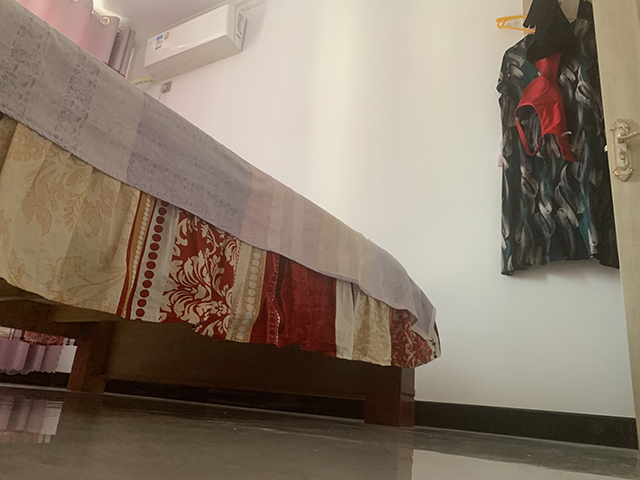bed: (1, 1, 443, 428)
